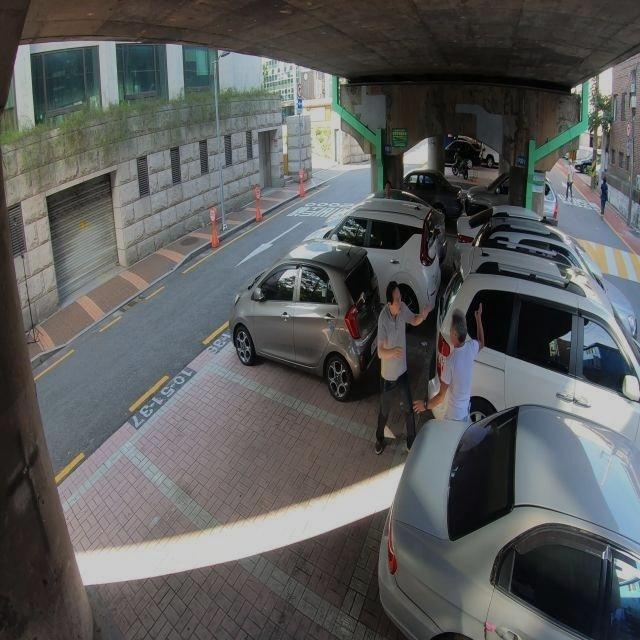fight: (369, 280, 485, 458)
